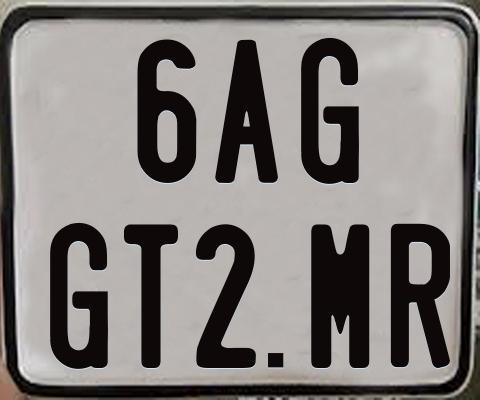2: (196, 222, 261, 366)
6: (134, 36, 200, 180)
A: (213, 40, 281, 187)
G: (300, 36, 362, 187), (50, 220, 111, 370)
M: (309, 224, 372, 374)
R: (388, 224, 452, 374)
T: (121, 221, 178, 367)
